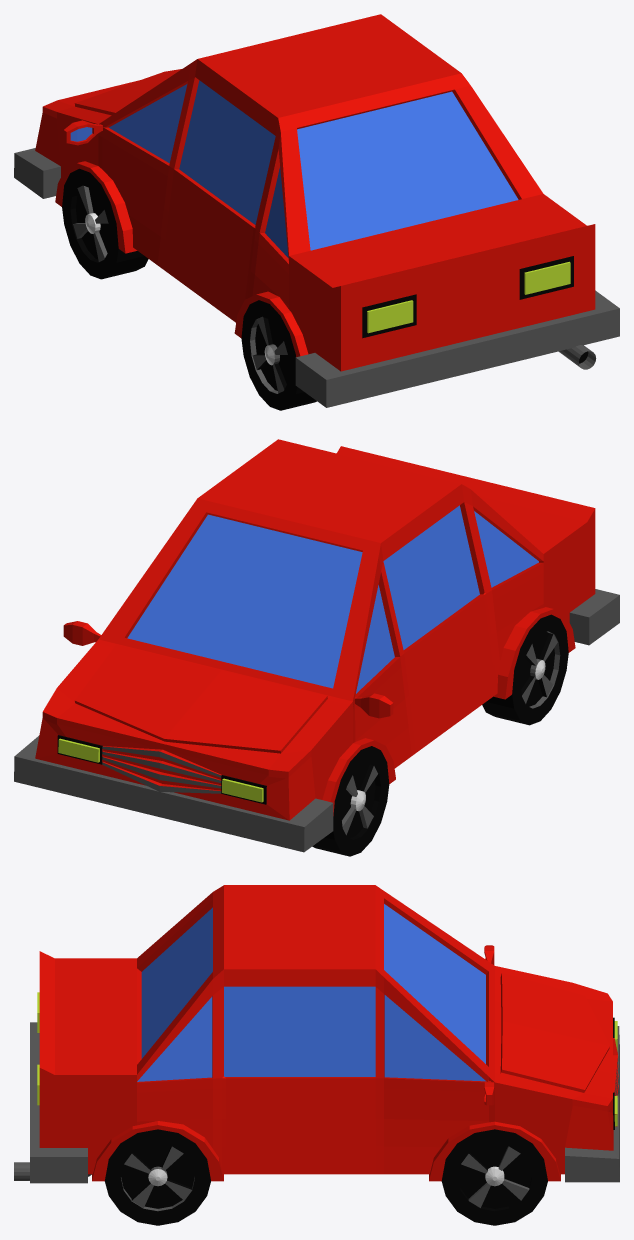
Rendered from red_car_red_car.gltf.
3 views of the same model, one above another, from view 1: azimuth 30°, elevation 25°; view 2: azimuth 150°, elevation 25°; view 3: azimuth 270°, elevation 25° (orthographic). The views are drawn at different scales.
Parts seen in each view (by area): view 1: Car1; view 2: Car1; view 3: Car1.
Boxes of the visible parts, left/top/right/bottom form: Car1: left=14, top=14, right=619, bottom=410; Car1: left=14, top=439, right=619, bottom=856; Car1: left=14, top=885, right=619, bottom=1225.
Size of the model in its own units: 0.7311 by 0.5396 by 1.25.
